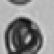correct: (4, 18, 44, 53)
